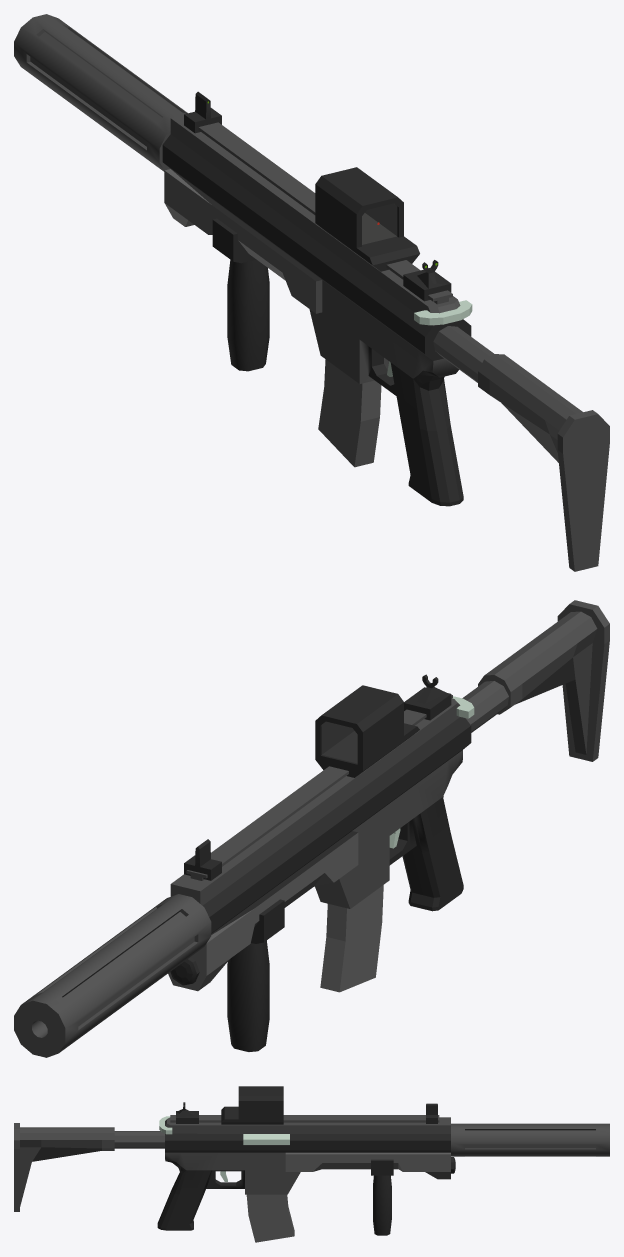
File: CustomAR.fbx
3 views of the same model, one above another, from view 1: azimuth 30°, elevation 25°; view 2: azimuth 150°, elevation 25°; view 3: azimuth 270°, elevation 25° (orthographic). The views are drawn at different scales.
Parts seen in each view (by area): view 1: AR.Frame, AR 30mag, AR.Frame.001, AR Bolt; view 2: AR.Frame, AR 30mag, AR.Frame.001; view 3: AR.Frame, AR 30mag, AR.Slide, AR.Frame.001.
Part boxes in pixels (x1,y1,x2,y2): AR.Frame: (14,14,609,571); AR 30mag: (318,359,381,467); AR.Frame.001: (403,260,451,301); AR Bolt: (414,300,472,325); AR.Frame: (14,600,609,1057); AR 30mag: (320,885,383,992); AR.Frame.001: (404,674,451,720); AR.Frame: (14,1086,609,1235); AR 30mag: (246,1194,294,1242); AR.Slide: (243,1134,289,1144); AR.Frame.001: (176,1102,198,1123).
Bounding box in the file's own units: 10.09 × 49.83 × 180.
